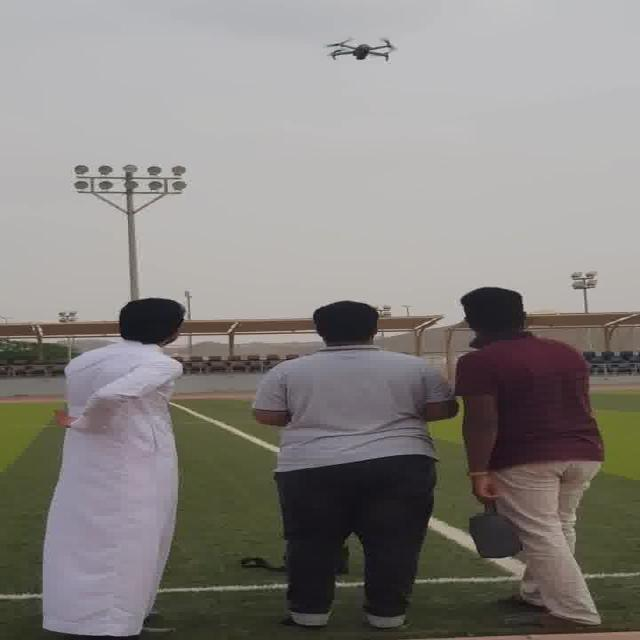drone: (319, 37, 404, 69)
